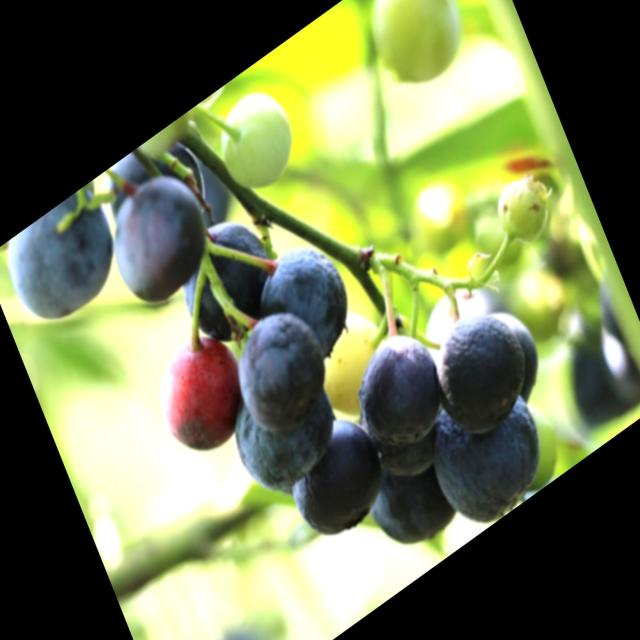blueberry: (416, 367, 550, 540), (0, 182, 126, 336), (164, 197, 282, 359), (222, 352, 346, 502), (419, 289, 535, 449), (98, 162, 213, 315), (276, 401, 393, 551), (250, 227, 362, 383), (224, 293, 339, 443), (347, 316, 452, 461), (361, 438, 458, 567)
blueberry-halfripe: (142, 314, 264, 476)
blueberry-unripe: (353, 0, 473, 113), (208, 78, 303, 206), (300, 301, 394, 423), (489, 164, 558, 258)
